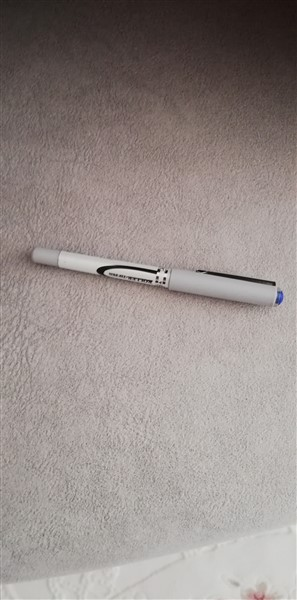pilot kalem: (28, 240, 288, 320)
